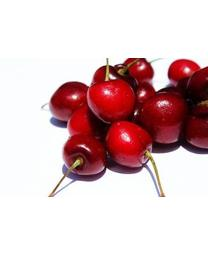cherry: (138, 92, 185, 143), (105, 121, 154, 168), (87, 78, 137, 124), (62, 132, 109, 176), (68, 104, 114, 145), (50, 81, 94, 123), (180, 97, 207, 150)
